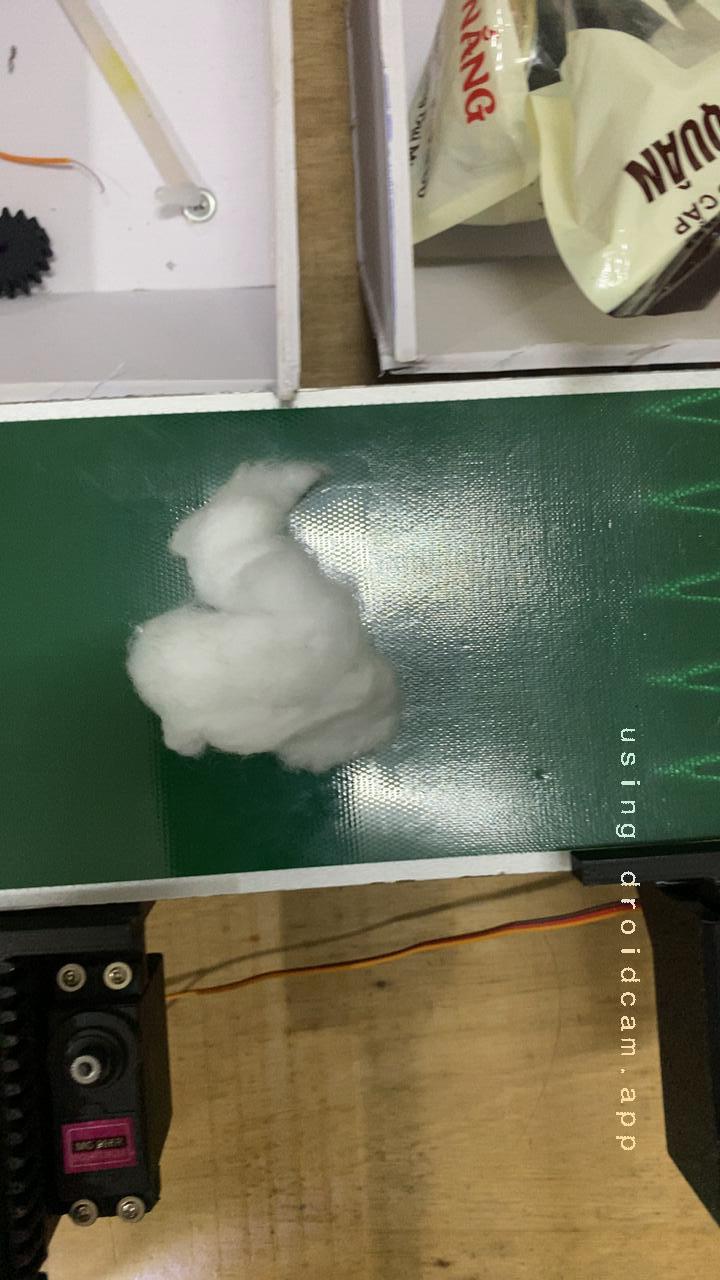cotton: (94, 444, 425, 803)
